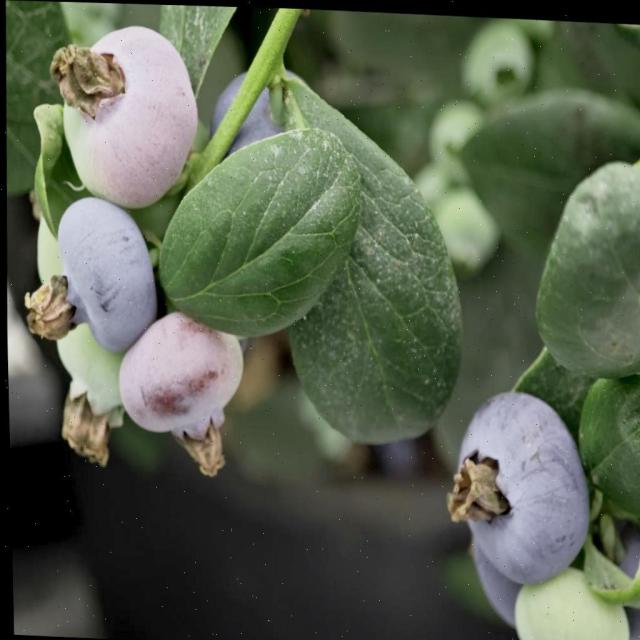RipeBlueBerry: (452, 384, 588, 585), (35, 198, 154, 349)
Semi-RipeBlueBerry: (56, 17, 200, 211), (115, 312, 247, 472)
